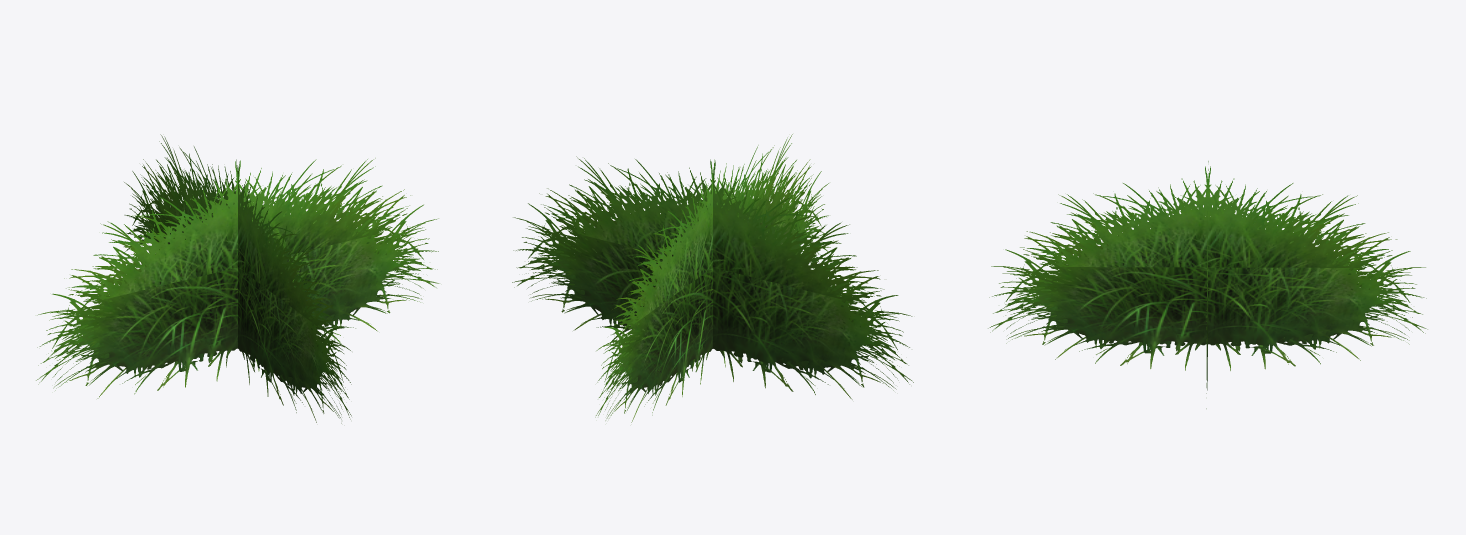
The model's file is grass8.fbx.
The picture shows the model from 3 angles, left to right: view 1: azimuth 30°, elevation 25°; view 2: azimuth 150°, elevation 25°; view 3: azimuth 270°, elevation 25°; orthographic projection. The views are drawn at different scales.
Visible parts, largest first — view 1: grass8; view 2: grass8; view 3: grass8.
Boxes of the visible parts, left/top/right/bottom form: grass8: left=36, top=134, right=439, bottom=423; grass8: left=512, top=134, right=913, bottom=422; grass8: left=988, top=161, right=1427, bottom=408.
Size of the model in its own units: 107 by 73.25 by 107.
1 material, 1 textured.
